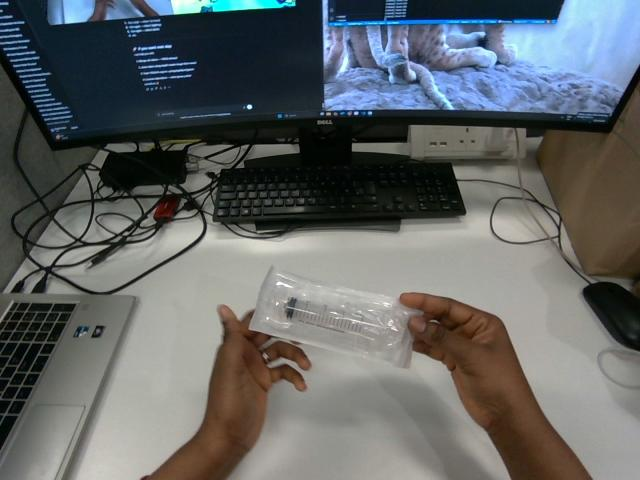syringe: (250, 267, 421, 367)
